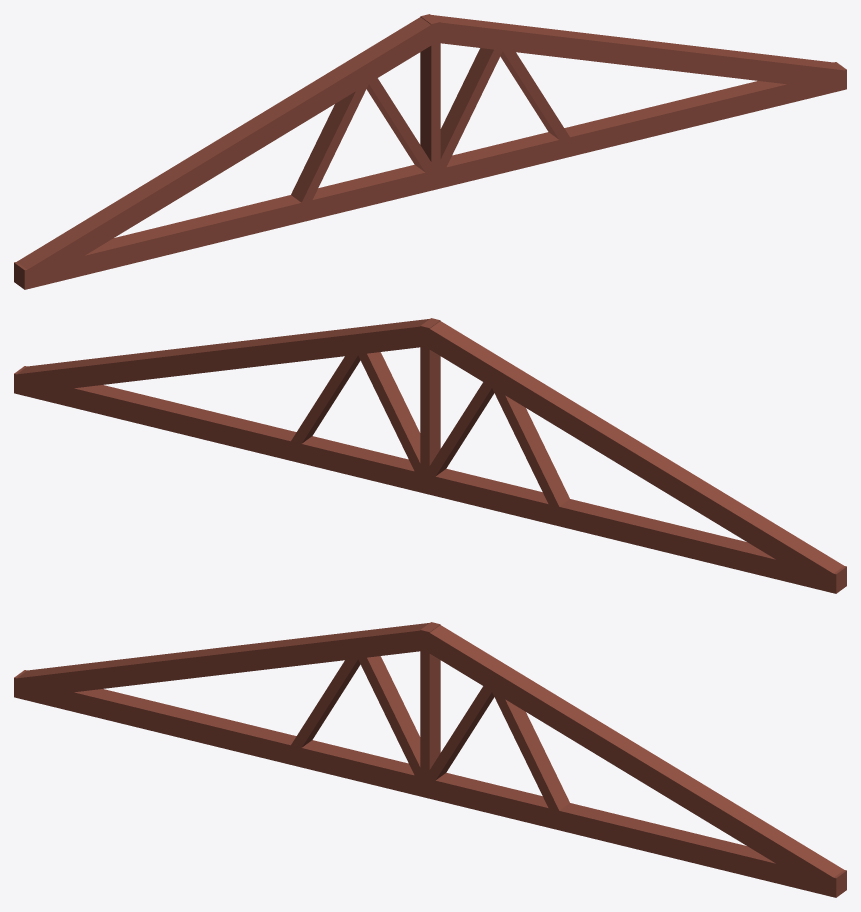
File: Truss.fbx
The picture shows the model from 3 angles, top to bottom: view 1: azimuth 30°, elevation 25°; view 2: azimuth 150°, elevation 25°; view 3: azimuth 330°, elevation 25°; orthographic projection.
Parts seen in each view (by area): view 1: Cube.002; view 2: Cube.002; view 3: Cube.002.
Part boxes in pixels (<box>): Cube.002: <box>14,14,846,289</box>; Cube.002: <box>14,318,846,593</box>; Cube.002: <box>14,622,846,897</box>.
Bounding box in the file's own units: 878 × 170 × 20.
